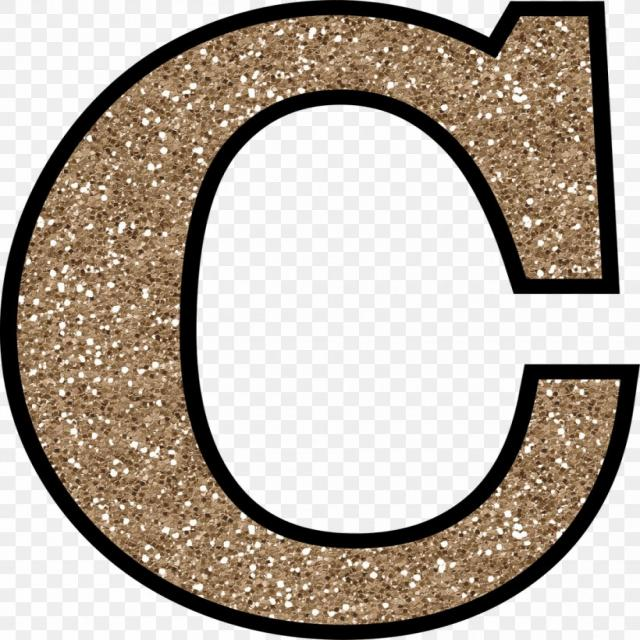C: (13, 0, 637, 640)
